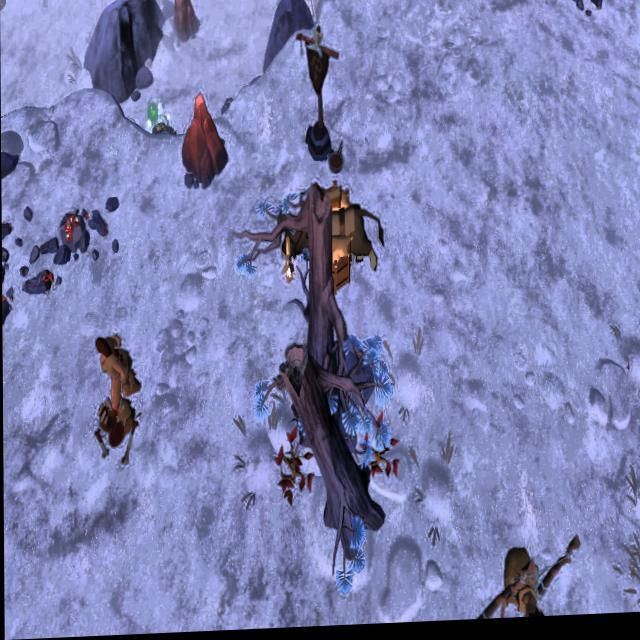enemy_factionKeeper: (94, 326, 142, 429)
rock_t5: (177, 91, 230, 186), (167, 0, 198, 49)
